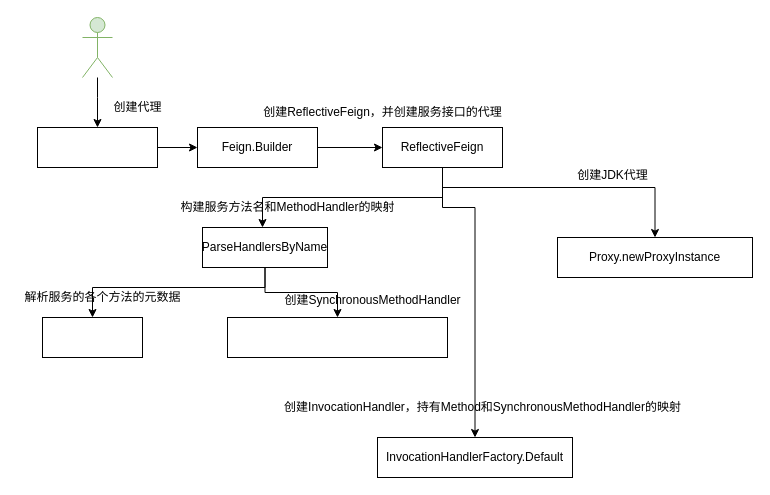
This 770x495 diagram has some shape labels left out. The centre of each missing label's shape, as x and y in pixels:
HystrixTargeter: the point at 97,147
SpringMvcContract: the point at 92,337
SynchronousMethodHandler.Factory: the point at 337,337
